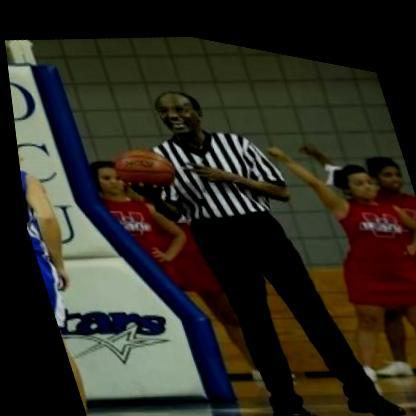basketball: (103, 129, 180, 200)
